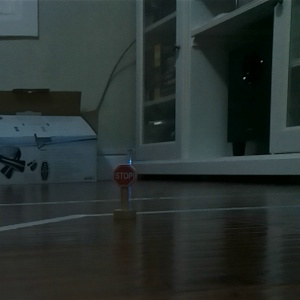stop sign: (111, 162, 138, 221)
